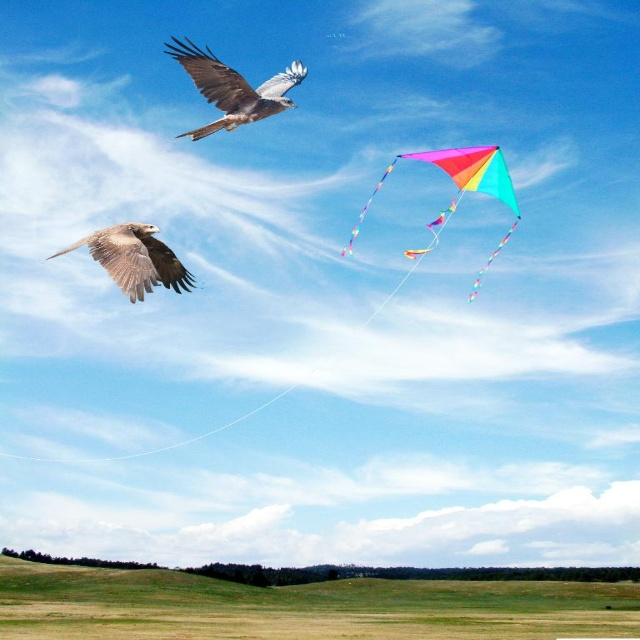Eagle: (163, 36, 307, 142), (48, 223, 196, 305)
